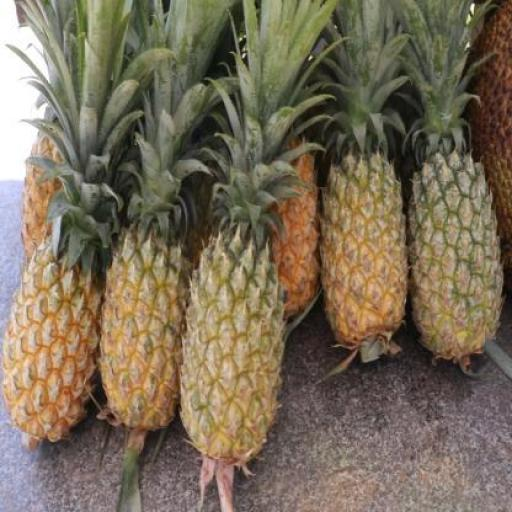------------------------------: (182, 230, 282, 447)
Pineapple - v8 v1: (8, 240, 110, 446), (102, 232, 195, 430), (319, 159, 406, 354), (22, 126, 88, 280)
